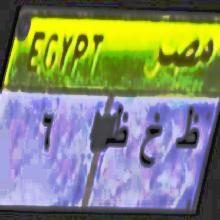6: (40, 108, 55, 162)
Thaa: (174, 102, 201, 162), (102, 102, 130, 157)
khaa: (138, 110, 165, 178)
